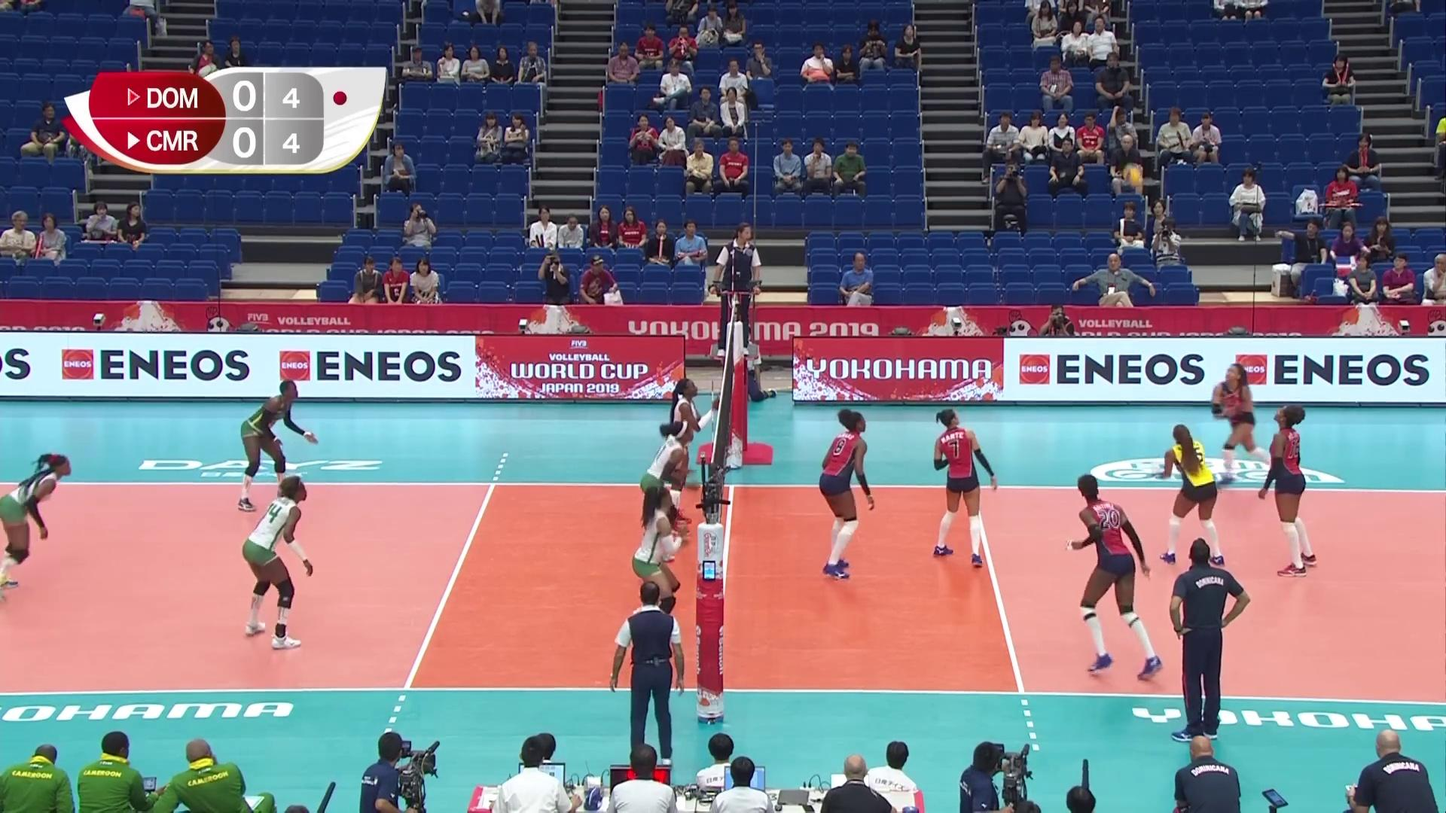player: (1068, 475, 1161, 679), (242, 478, 313, 650), (1209, 366, 1303, 486), (241, 380, 319, 510), (935, 410, 998, 568), (0, 456, 69, 594), (817, 409, 874, 576), (1262, 407, 1318, 576), (1159, 423, 1224, 565), (641, 421, 694, 579), (636, 485, 687, 645), (668, 379, 722, 526)
refree: (610, 580, 685, 772), (712, 221, 761, 359)
